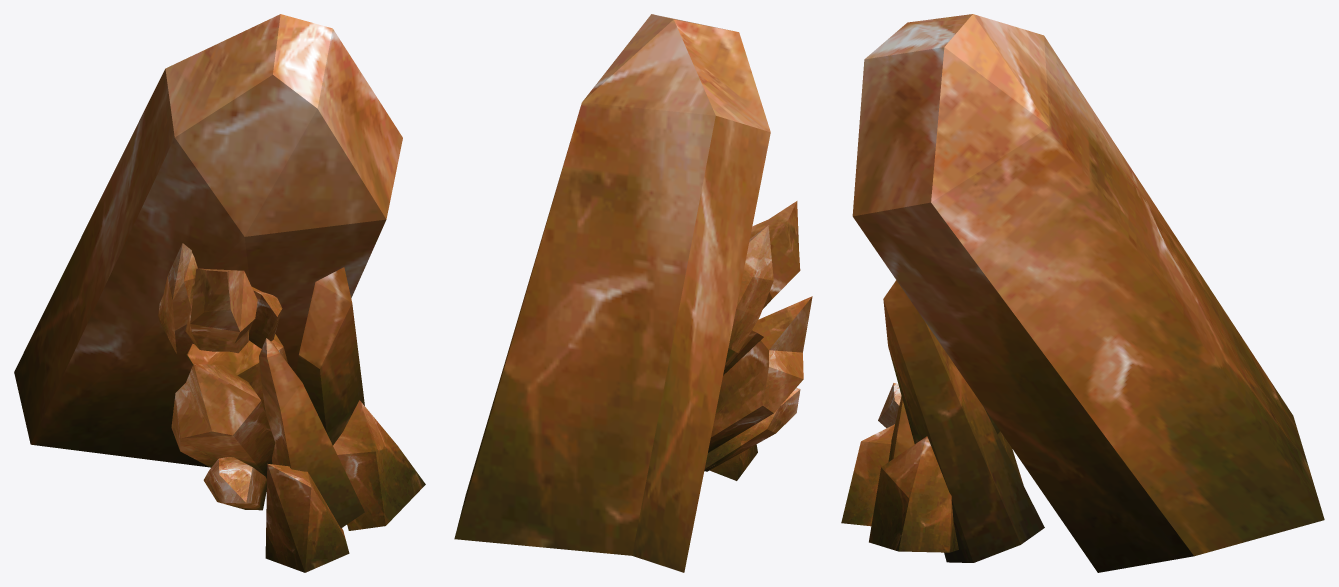
The model's file is environment_stone_shuijing_001_b.FBX.
3 views of the same model, side by side, from view 1: azimuth 30°, elevation 25°; view 2: azimuth 150°, elevation 25°; view 3: azimuth 270°, elevation 25° (orthographic). The views are drawn at different scales.
Parts seen in each view (by area): view 1: environment_stone_shuijing_001_b; view 2: environment_stone_shuijing_001_b; view 3: environment_stone_shuijing_001_b.
Part boxes in pixels (box(x1,y1,x2,y2)): environment_stone_shuijing_001_b: box(14, 14, 425, 572); environment_stone_shuijing_001_b: box(454, 14, 812, 572); environment_stone_shuijing_001_b: box(841, 14, 1324, 572).
Size of the model in its own units: 136 by 269 by 222.
Materials: 1 (1 with a texture image).
